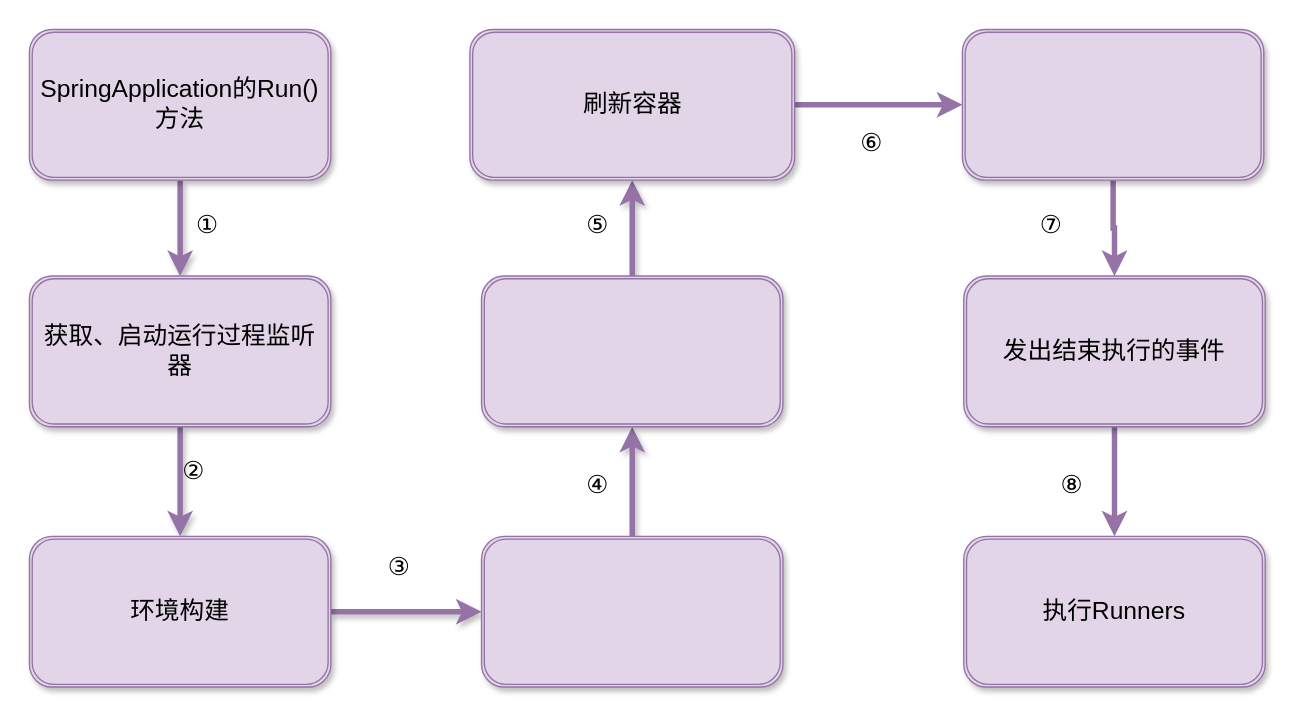
Some shapes in this 1297 by 721 pixel diagram are drawn without their labels. The centre of each missing label's shape, as x and y in pixels:
"IOC容器的前置处理" goes at (x=633, y=352).
"IOC容器的后置处理" goes at (x=1114, y=106).
"创建IOC容器" goes at (x=633, y=613).
